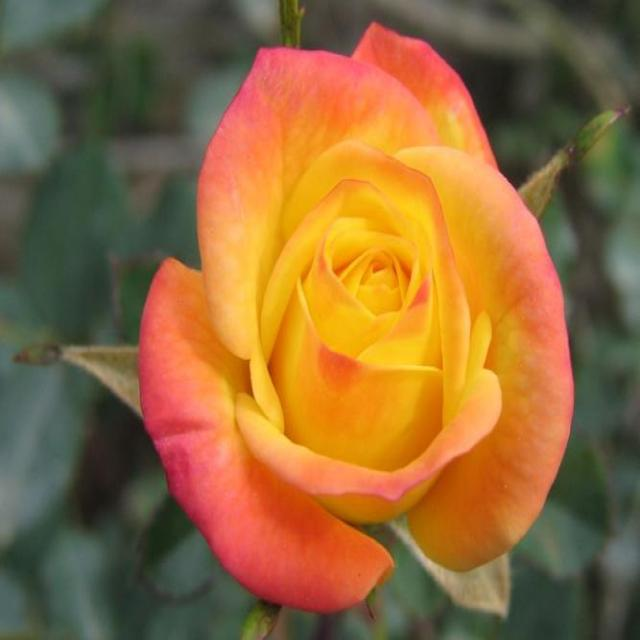rose: (115, 19, 600, 613)
